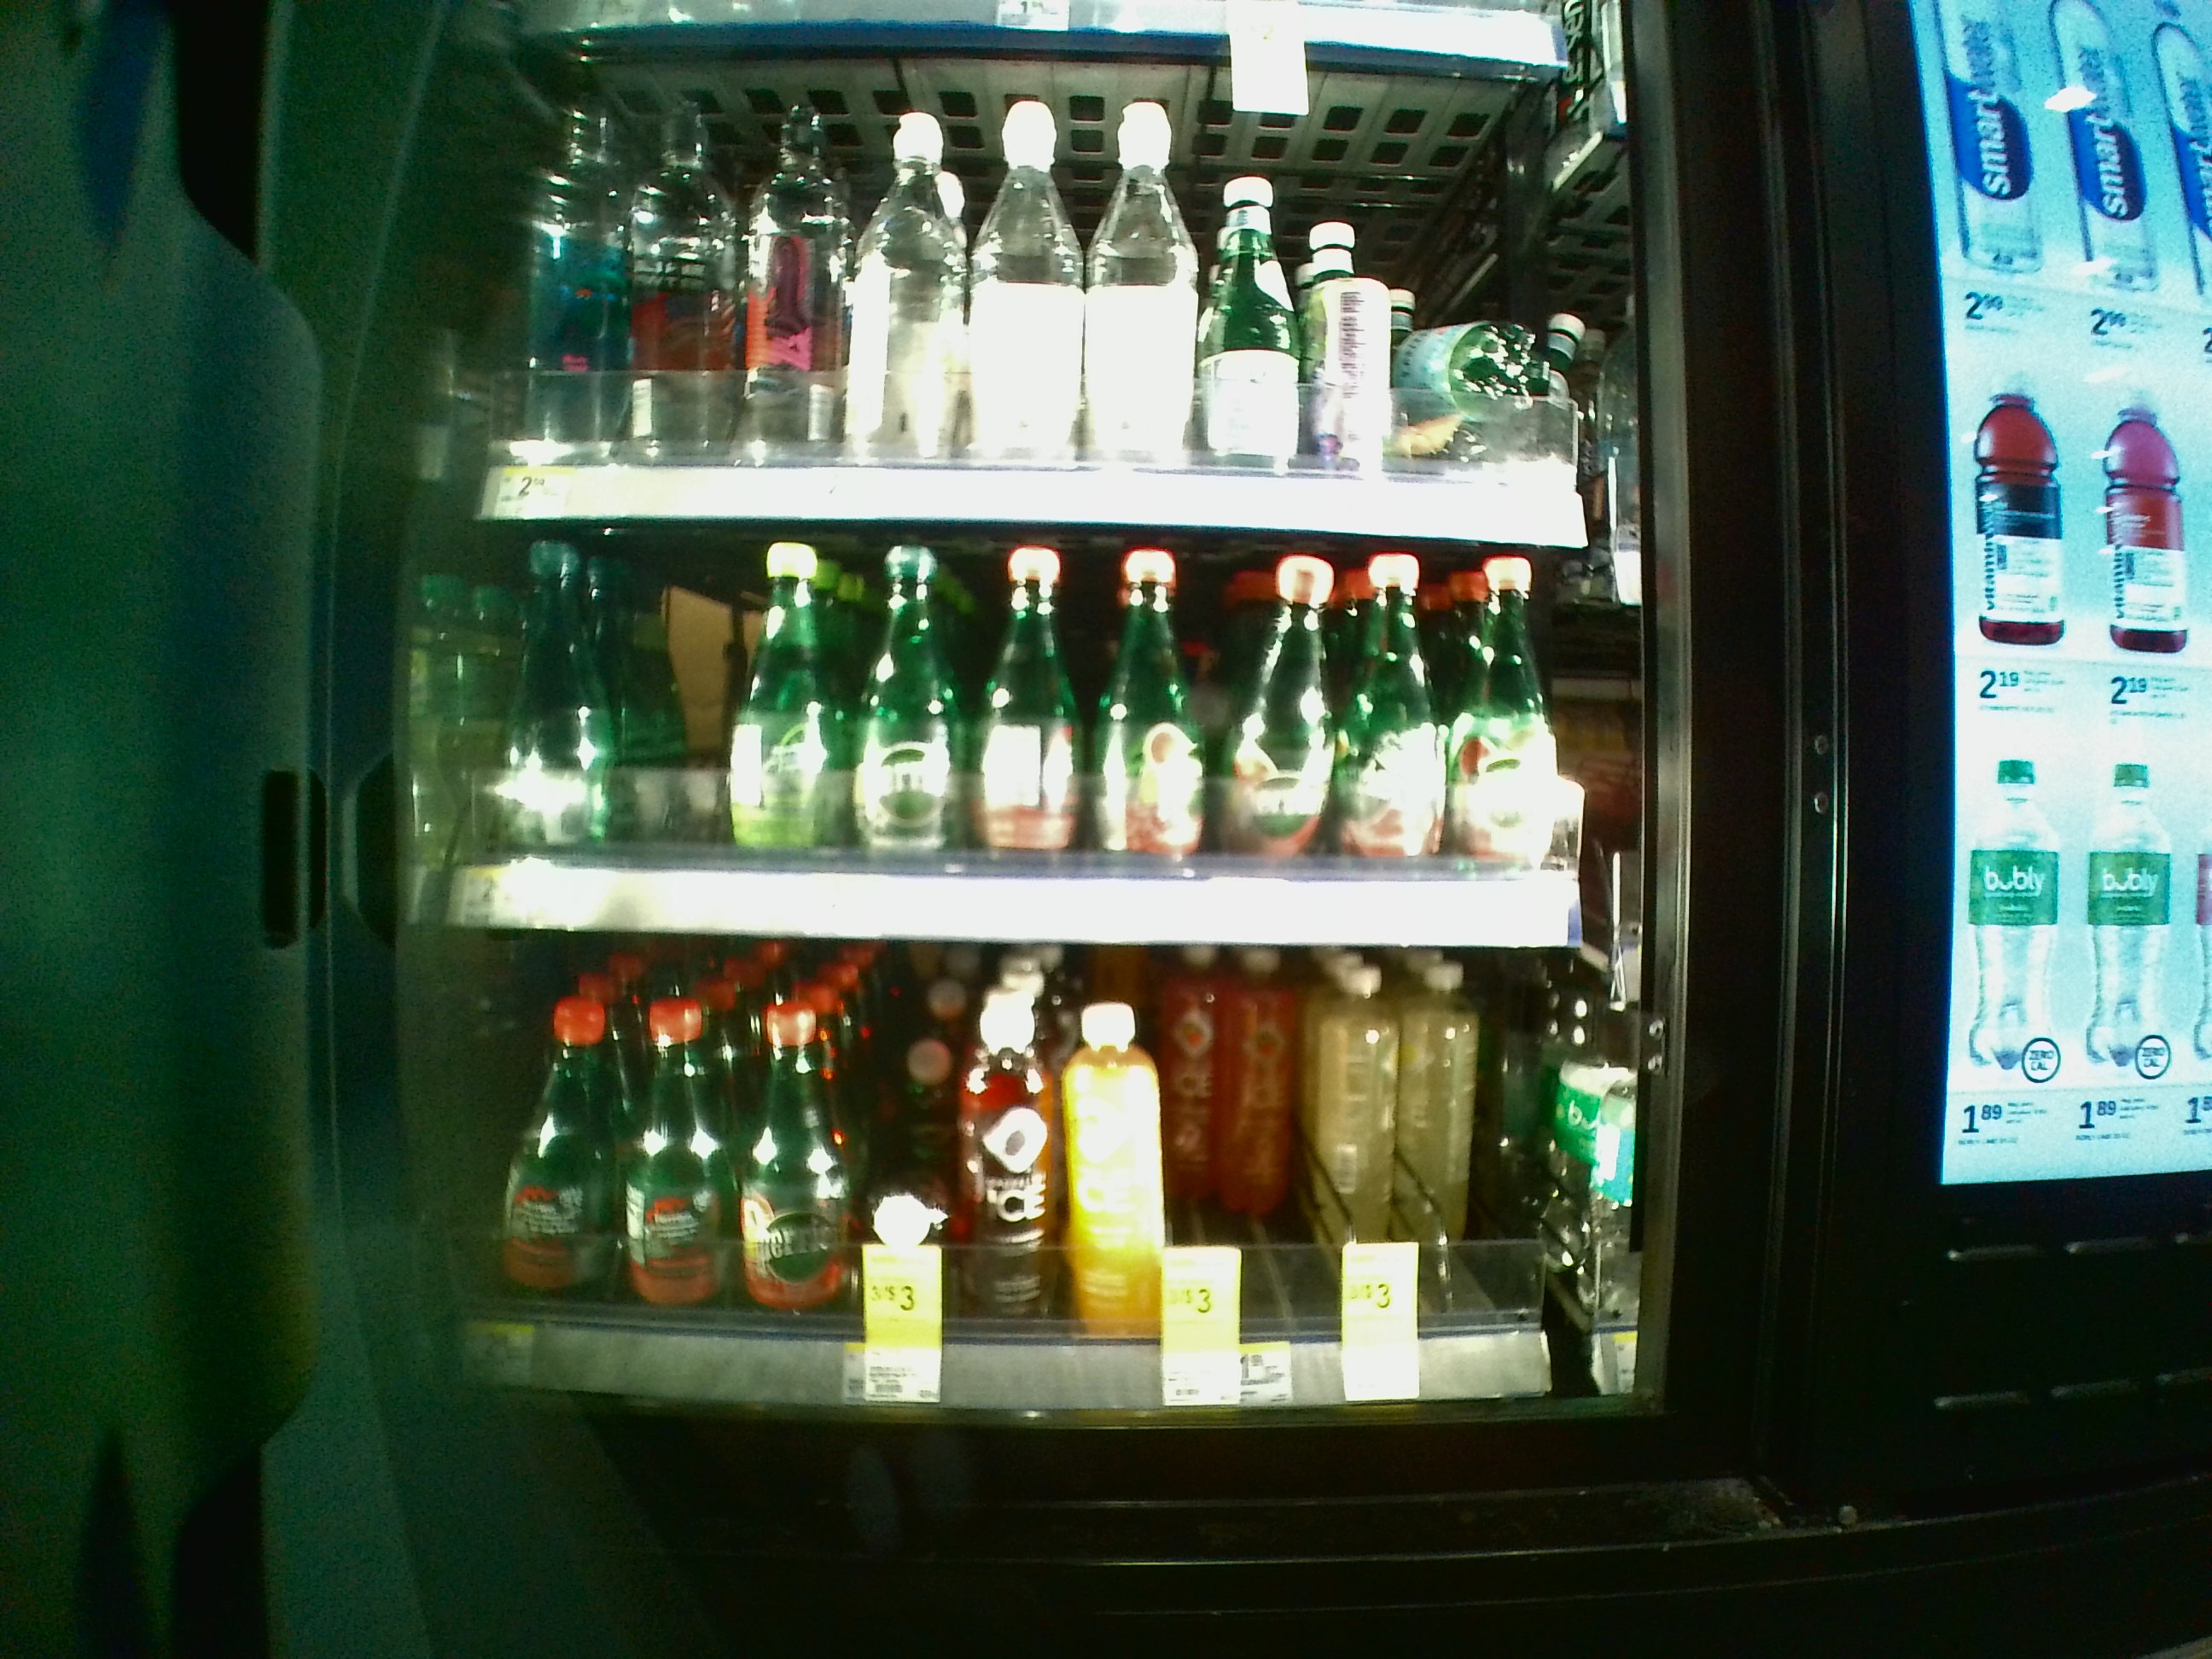shelf: (415, 950, 1634, 1406), (416, 521, 1609, 950)
